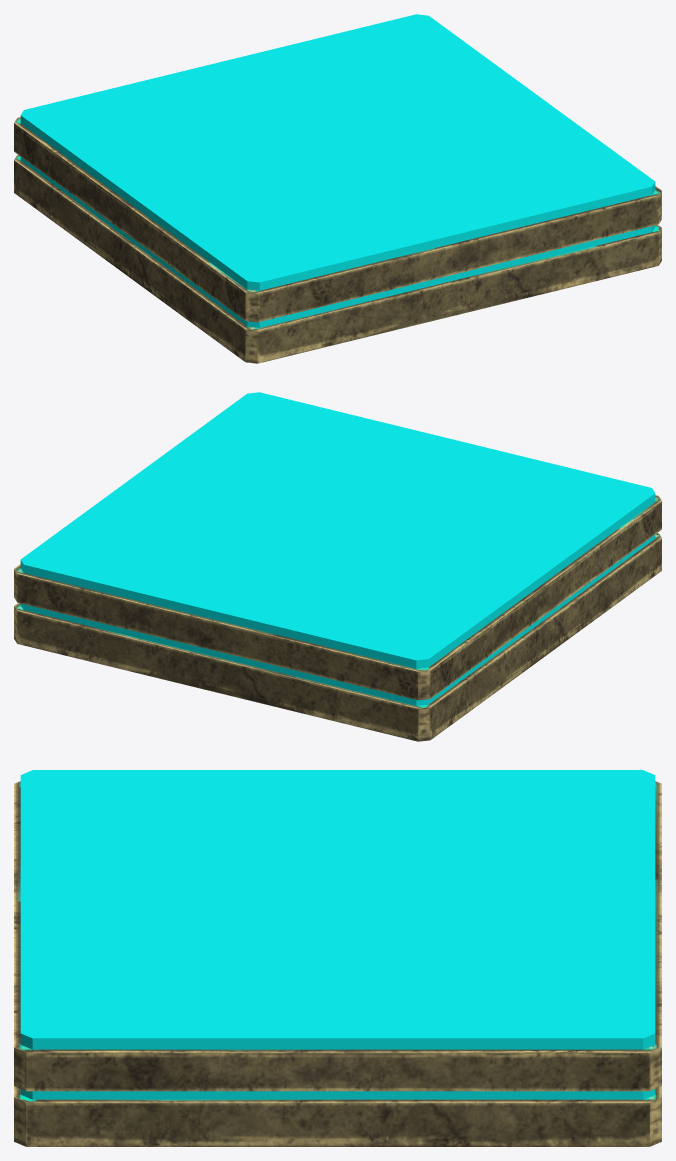
Rendered from Plate Holder.fbx.
3 views of the same model, one above another, from view 1: azimuth 30°, elevation 25°; view 2: azimuth 150°, elevation 25°; view 3: azimuth 270°, elevation 25° (orthographic). The views are drawn at different scales.
Visible parts, largest first — view 1: Plate Holder.001; view 2: Plate Holder.001; view 3: Plate Holder.001.
Part boxes in pixels (x1=…): Plate Holder.001: x1=14, y1=14, x2=661, y2=363; Plate Holder.001: x1=14, y1=392, x2=661, y2=741; Plate Holder.001: x1=14, y1=770, x2=661, y2=1146.
Size of the model in its own units: 230 by 41.35 by 230.
